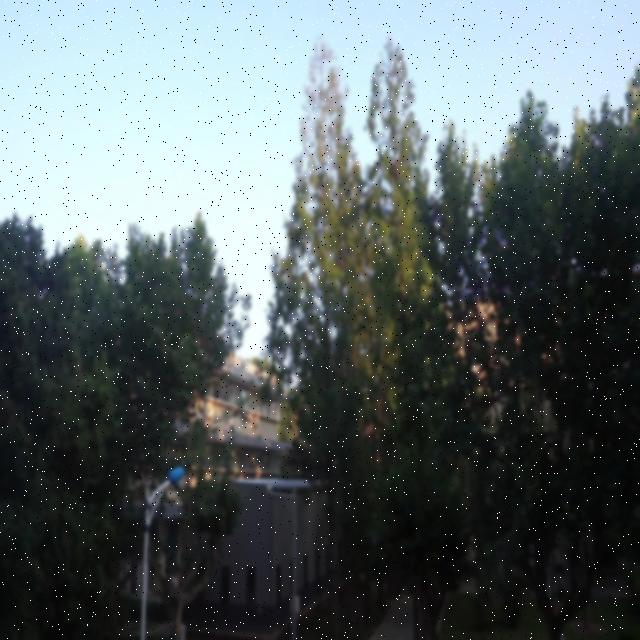UAV: (274, 265, 286, 274)
